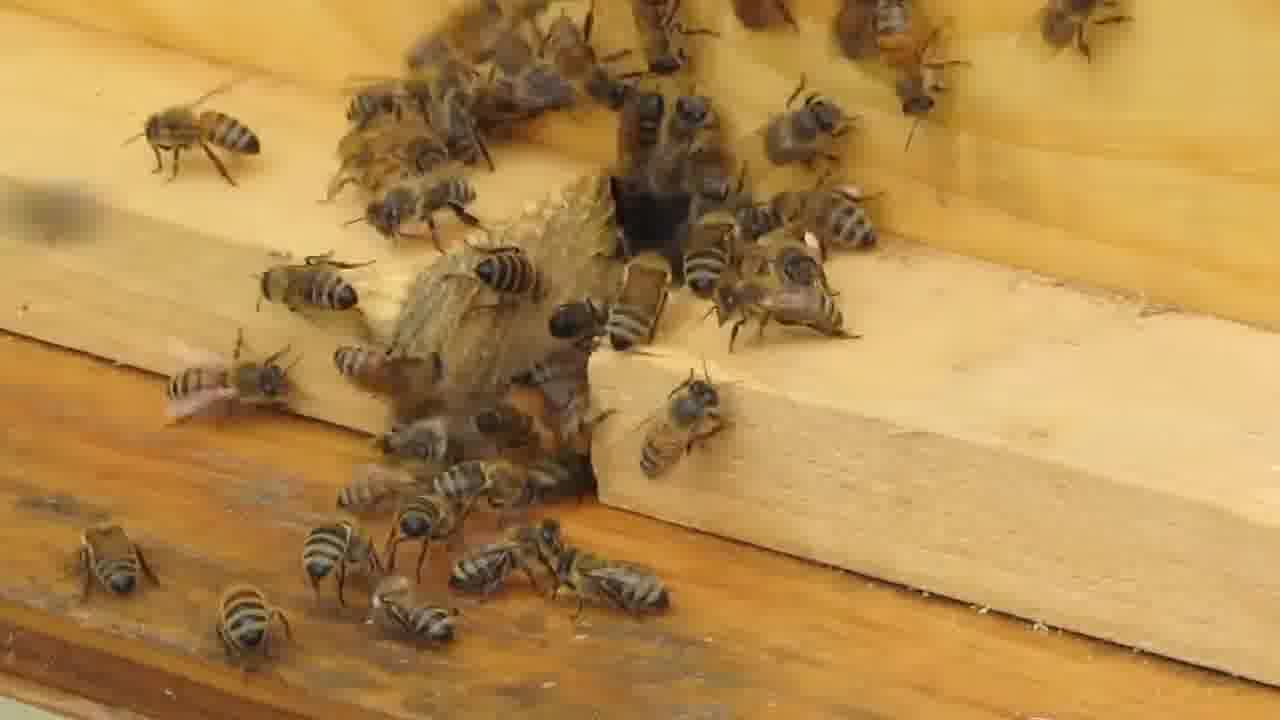pollen: (764, 185, 895, 264)
